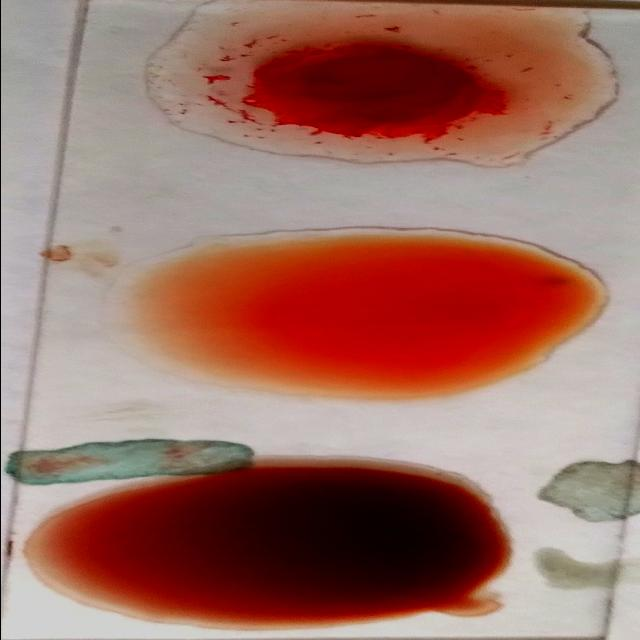D: (129, 17, 609, 153)
